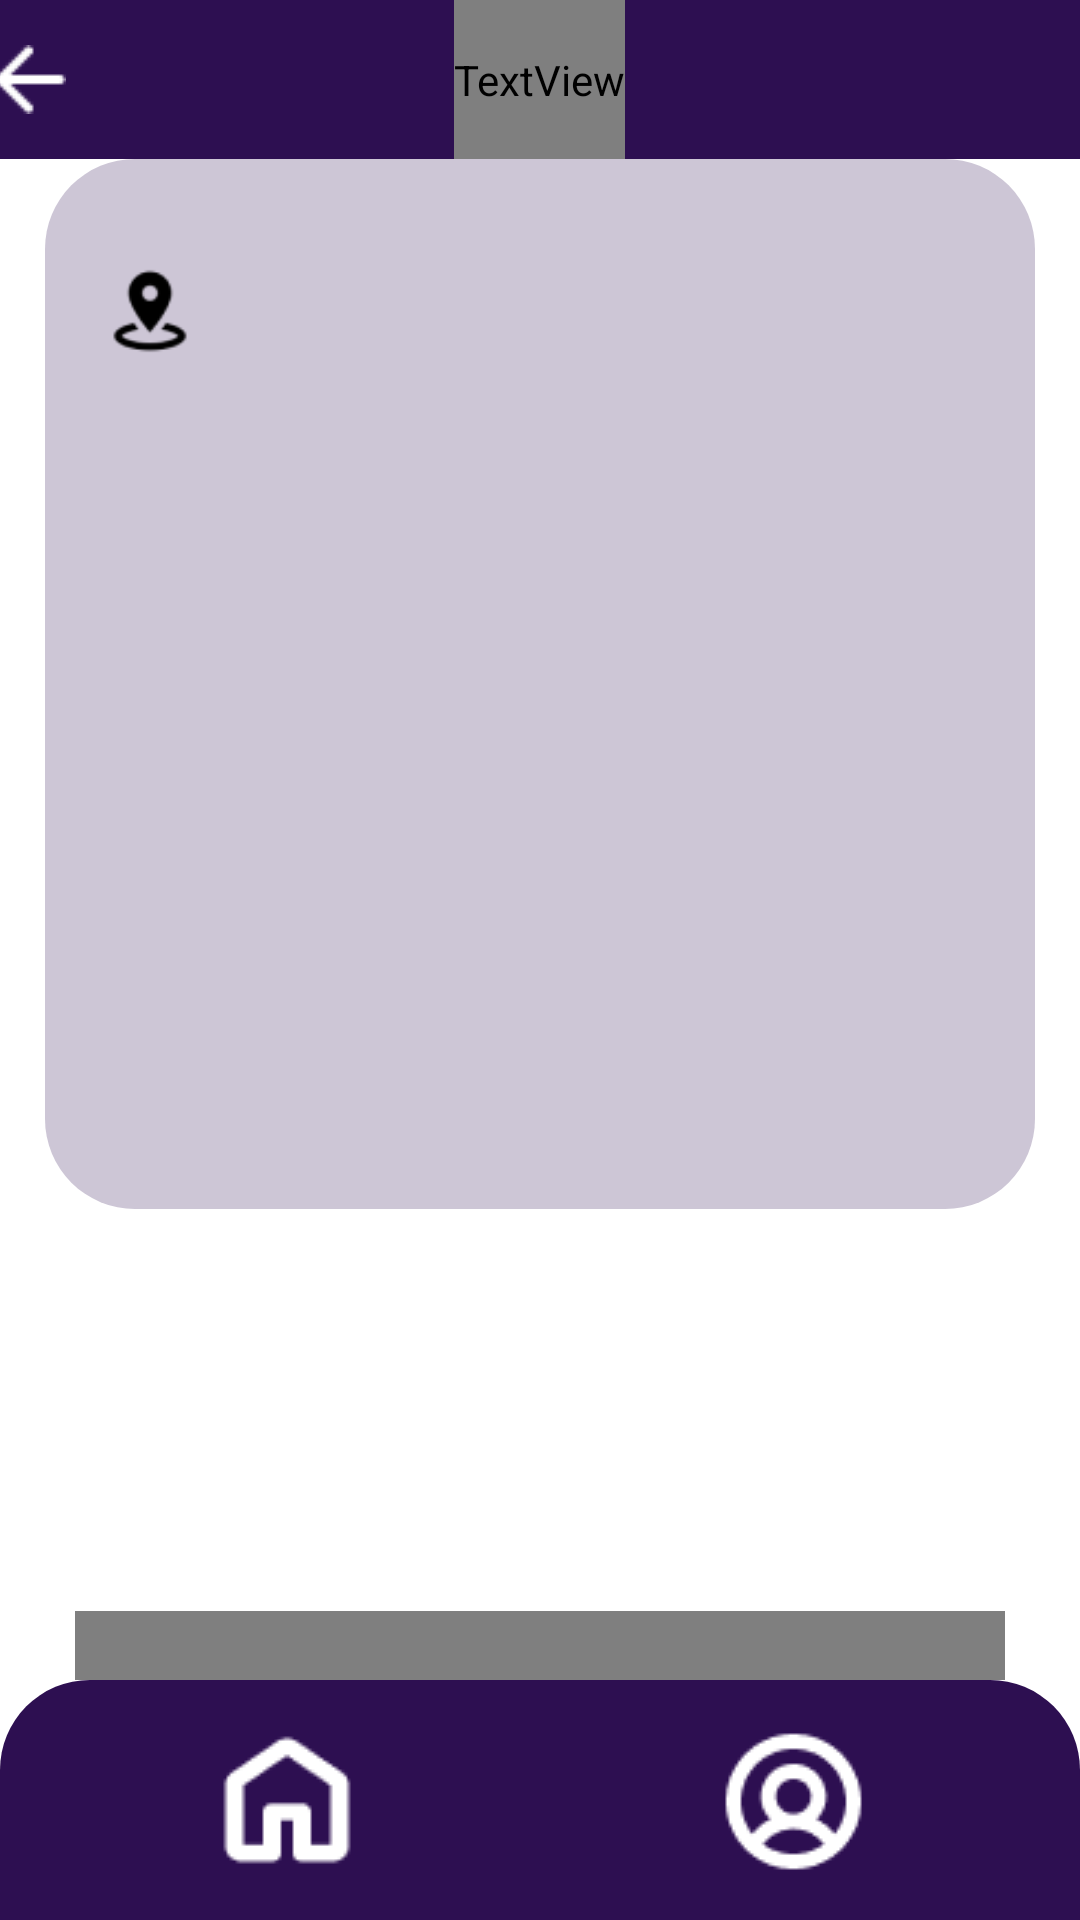

Icons on this 1080px x 1920px Android screen, each with the point to tap as (x=x, y=y):
place marker: (x=150, y=311)
